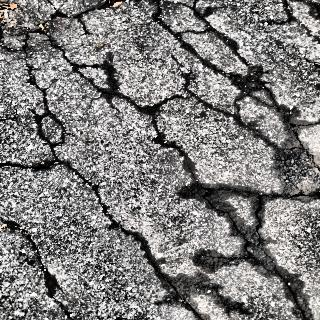crack: (56, 162, 190, 306), (180, 29, 320, 156), (32, 26, 132, 106), (194, 178, 276, 249)
